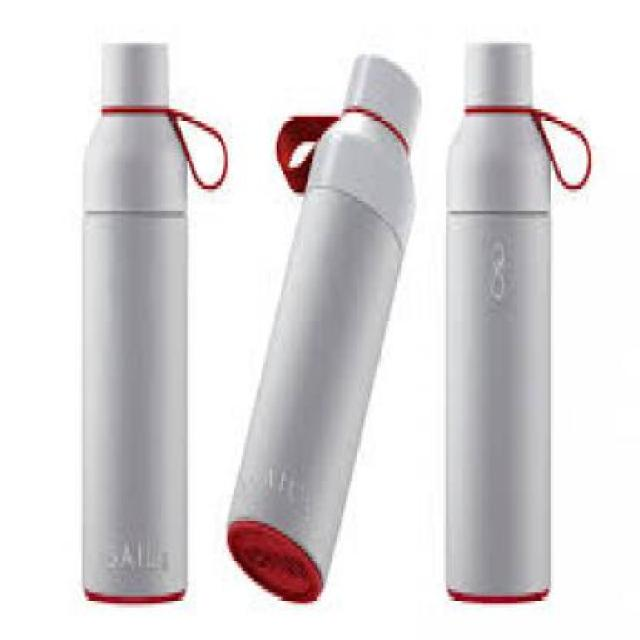Drinking: (64, 22, 194, 626), (438, 29, 556, 637)
